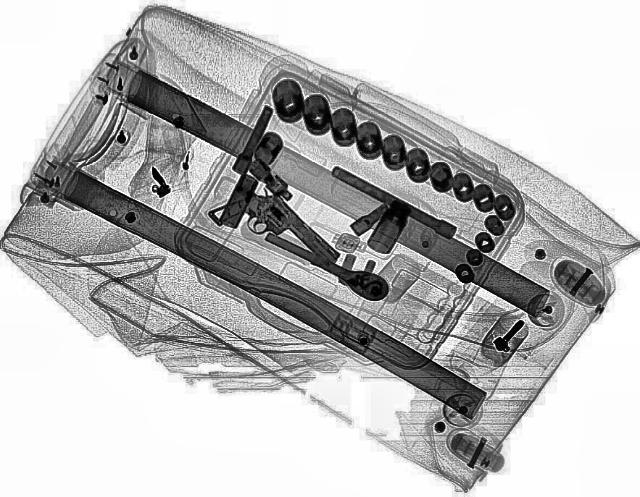Gun: (204, 181, 344, 291)
